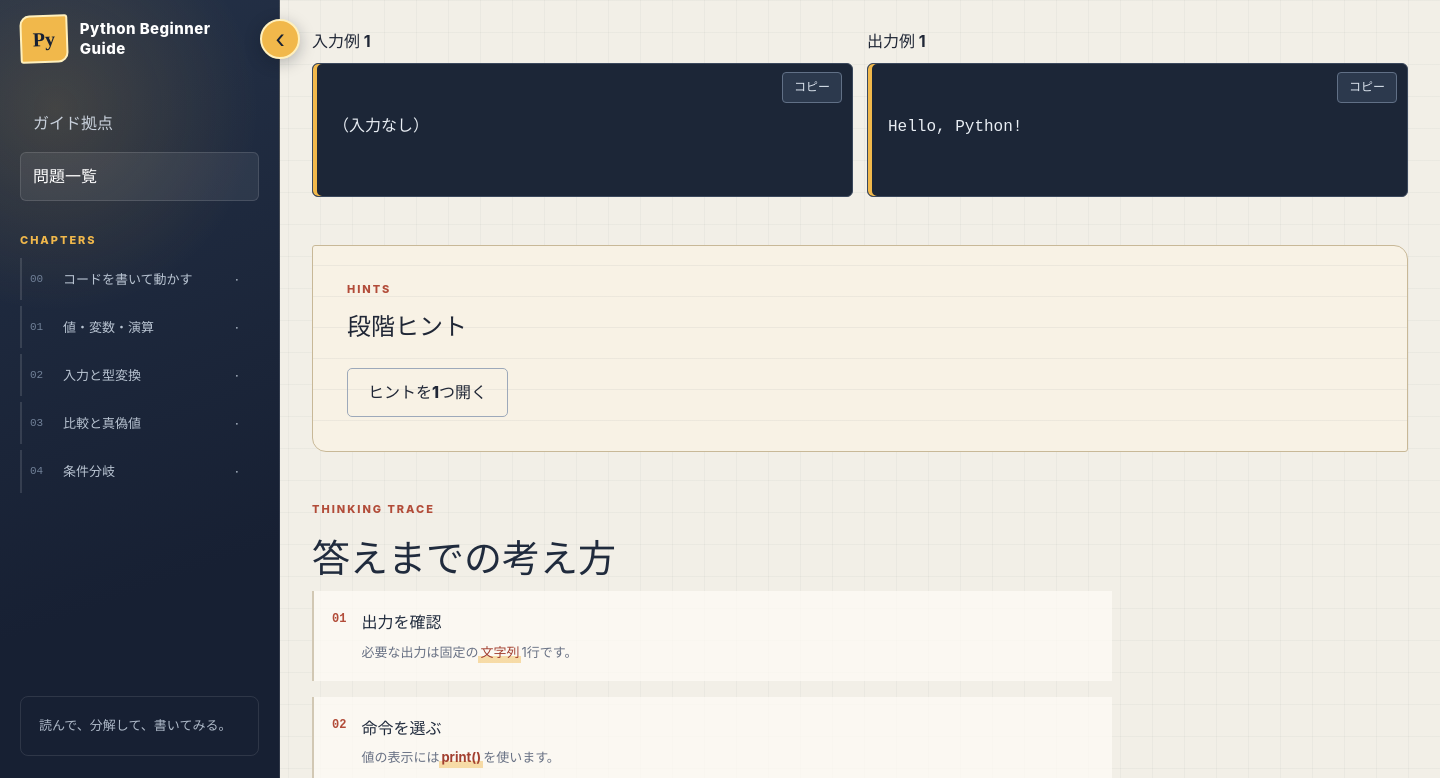
Test: application routes and interactions › resets revealed hints after moving to the next problem
The width and height of the screenshot is (1440, 778).
(page scrolled)
Click the button "ヒントを1つ開く".
click(428, 393)  # box [347,368,508,417]
(page scrolled)
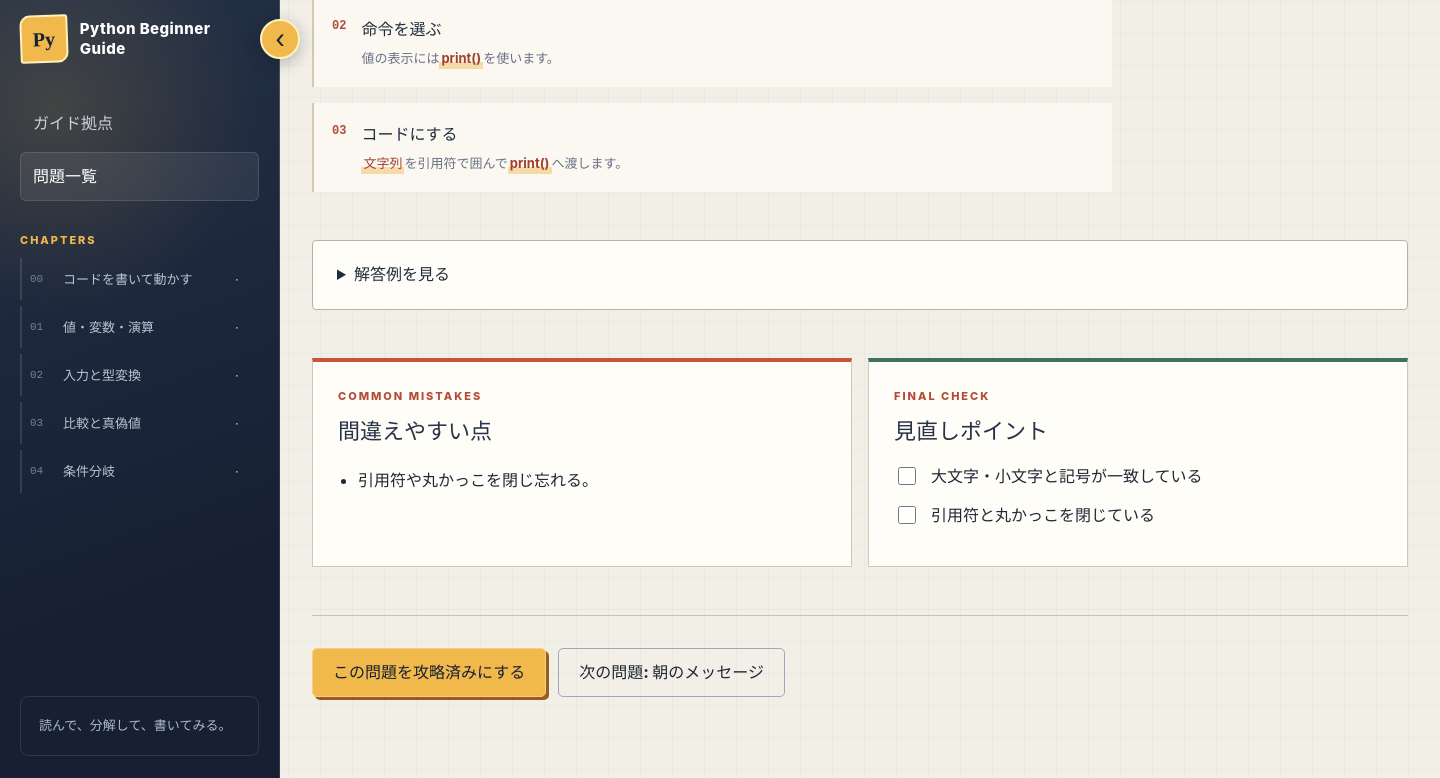
Click the link "次の問題: 朝のメッセージ".
click(672, 673)  # box [558,648,785,697]
(page scrolled)
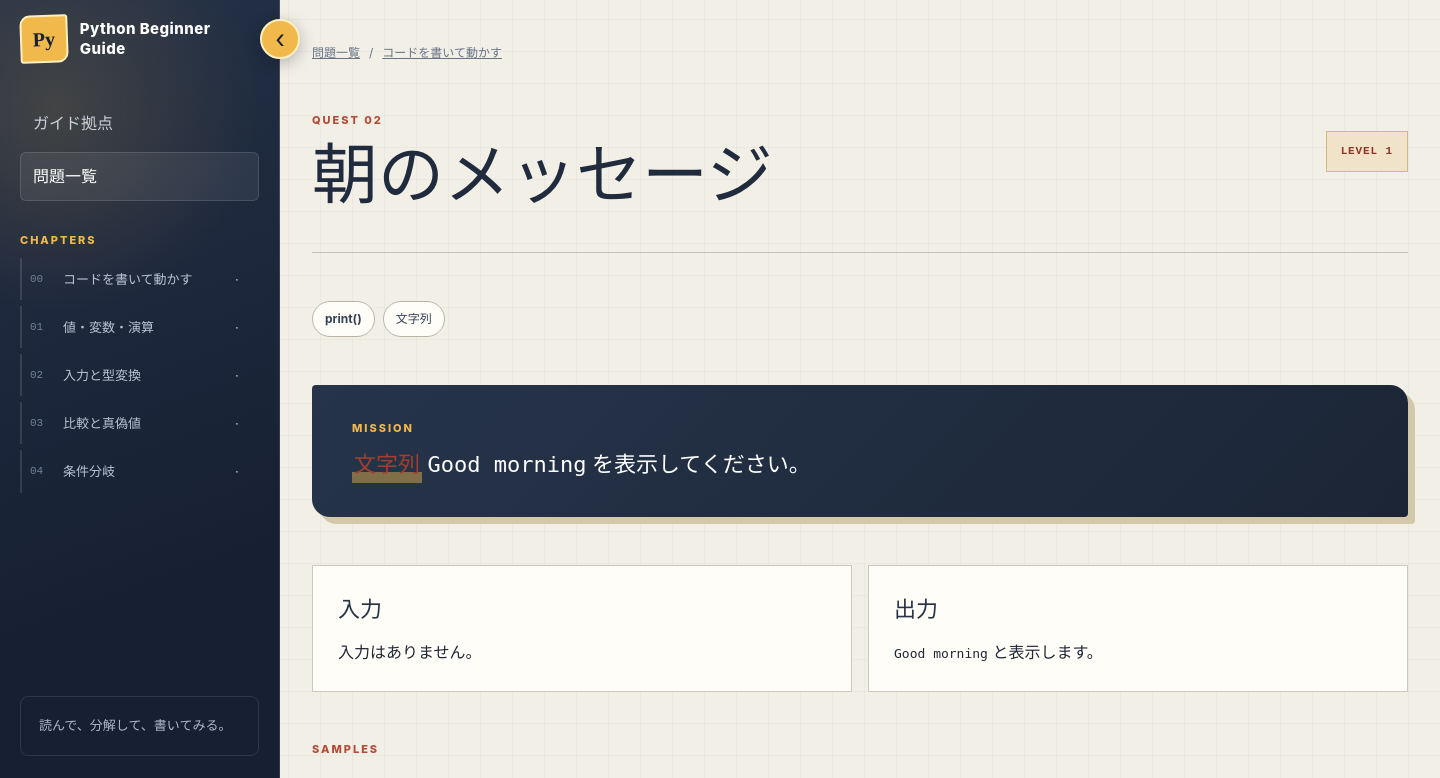
Check: the heading "朝のメッセージ" is shown, box [312,138,773,214]
